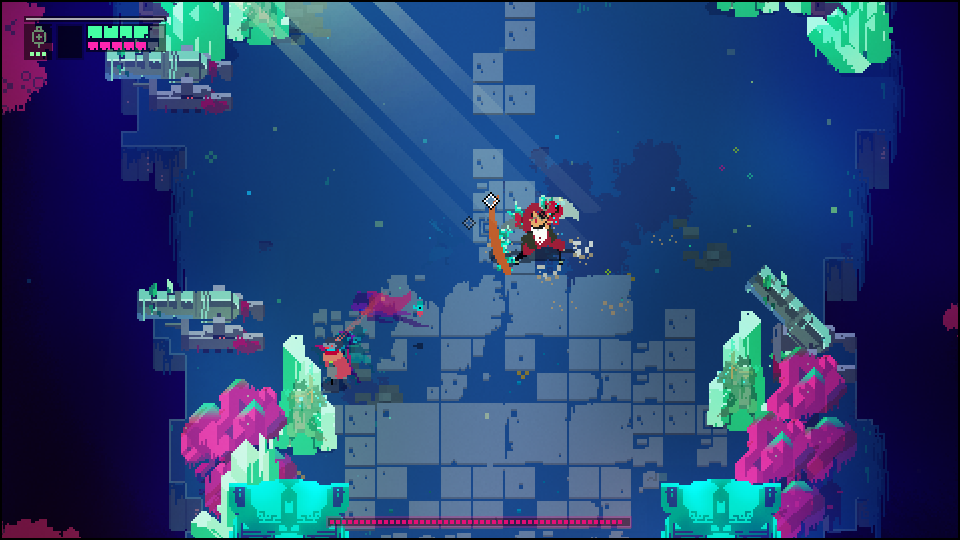hanged_man: (483, 192, 587, 278)
player: (318, 327, 351, 395)
